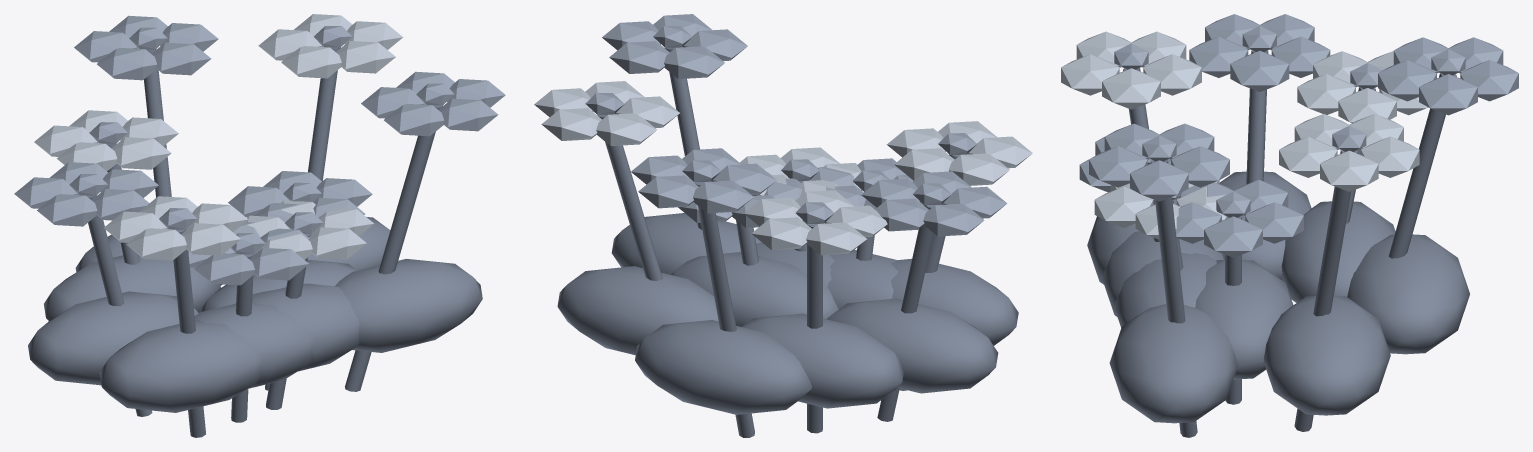
File: 花朵组团-lite.glb
3 renders of one model, left to right at view 1: azimuth 30°, elevation 25°; view 2: azimuth 150°, elevation 25°; view 3: azimuth 270°, elevation 25°, orthographic. The views are drawn at different scales.
Parts seen in each view (by area): view 1: garden-flowers; view 2: garden-flowers; view 3: garden-flowers.
Boxes of the visible parts, x1,y1,x2,y2 form: garden-flowers: [14, 14, 505, 437]; garden-flowers: [534, 14, 1032, 437]; garden-flowers: [1061, 14, 1518, 437].
Size of the model in its own units: 0.9 by 0.6 by 0.75.
